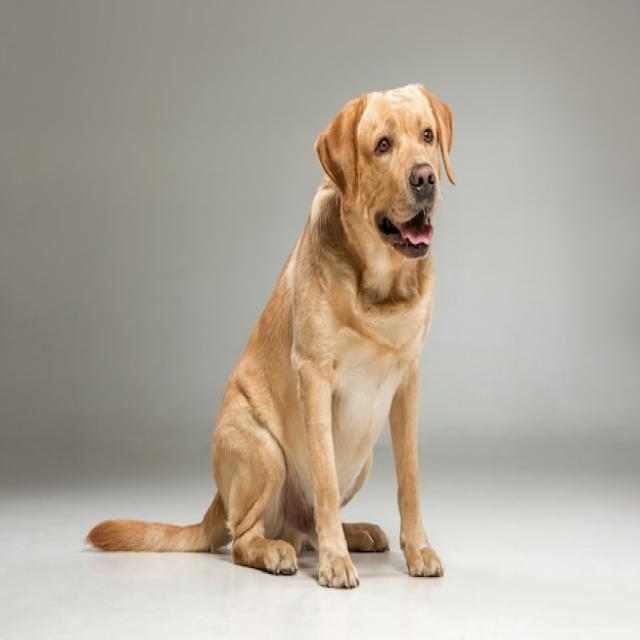Dog: (86, 86, 455, 589)
